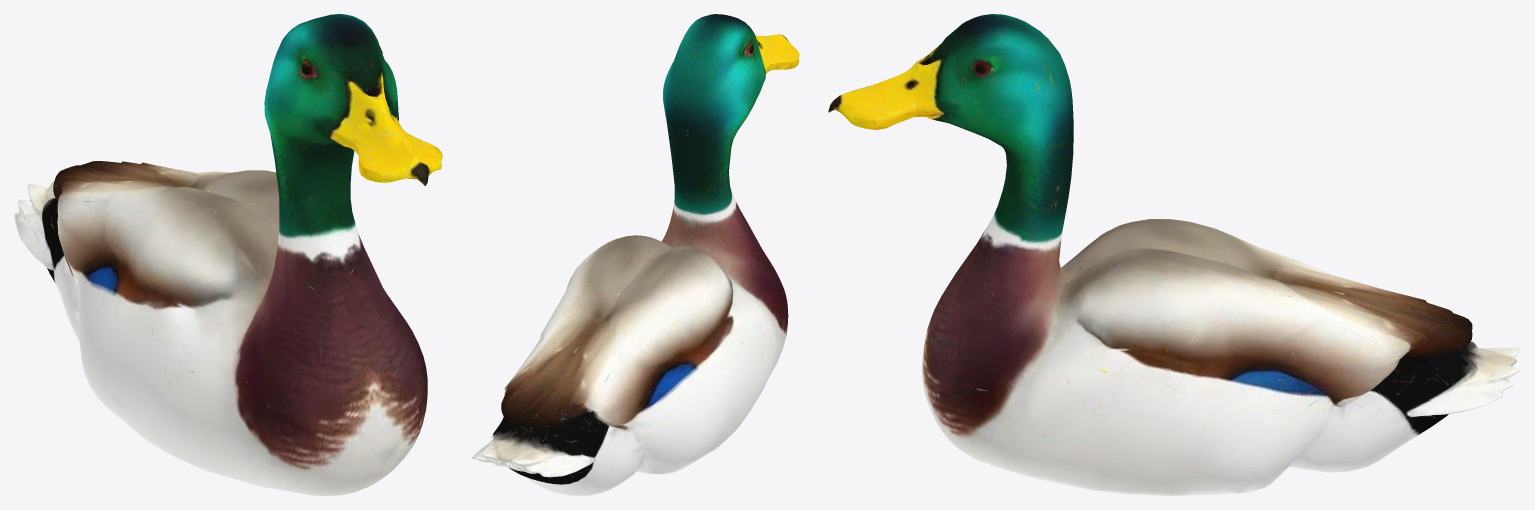
The model's file is bird-wilde-eend.glb.
The picture shows the model from 3 angles, left to right: view 1: azimuth 30°, elevation 25°; view 2: azimuth 150°, elevation 25°; view 3: azimuth 270°, elevation 25°; orthographic projection. The views are drawn at different scales.
Size of the model in its own units: 0.7194 by 1.32 by 1.91.
1 material, 1 textured.
